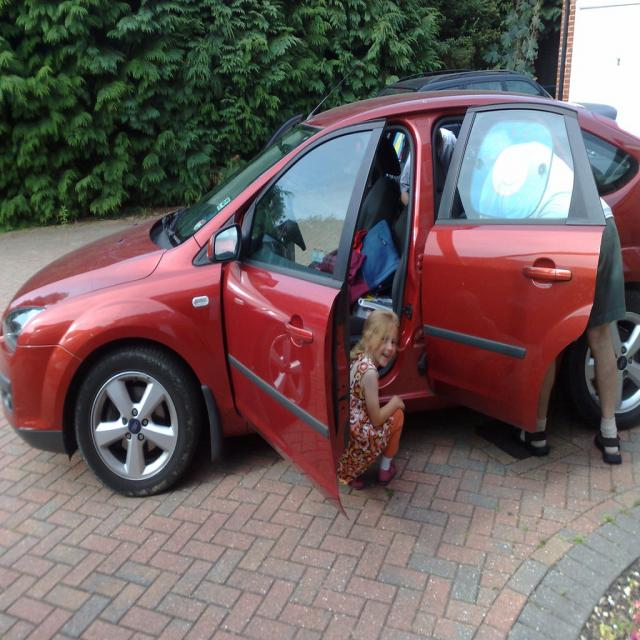other: (16, 84, 640, 523)
